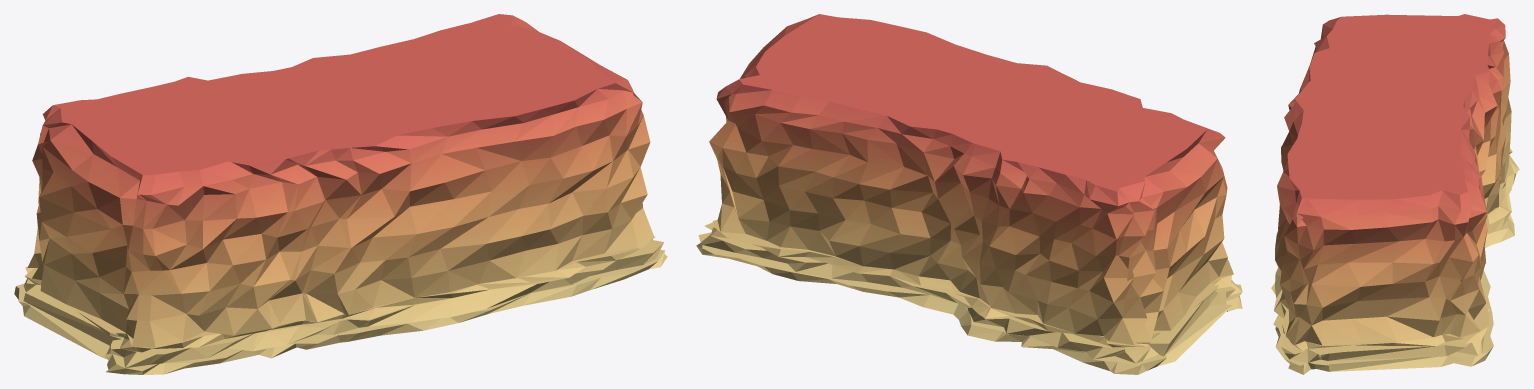
The model's file is CanionSides2.fbx.
3 renders of one model, left to right at view 1: azimuth 30°, elevation 25°; view 2: azimuth 150°, elevation 25°; view 3: azimuth 270°, elevation 25°, orthographic. The views are drawn at different scales.
Parts seen in each view (by area): view 1: CanionSide4; view 2: CanionSide4; view 3: CanionSide4.
Part boxes in pixels (left/top/right/bottom): CanionSide4: left=14, top=14, right=667, bottom=374; CanionSide4: left=696, top=14, right=1242, bottom=374; CanionSide4: left=1271, top=14, right=1519, bottom=374.
Size of the model in its own units: 19.14 by 6.3 by 9.15.
